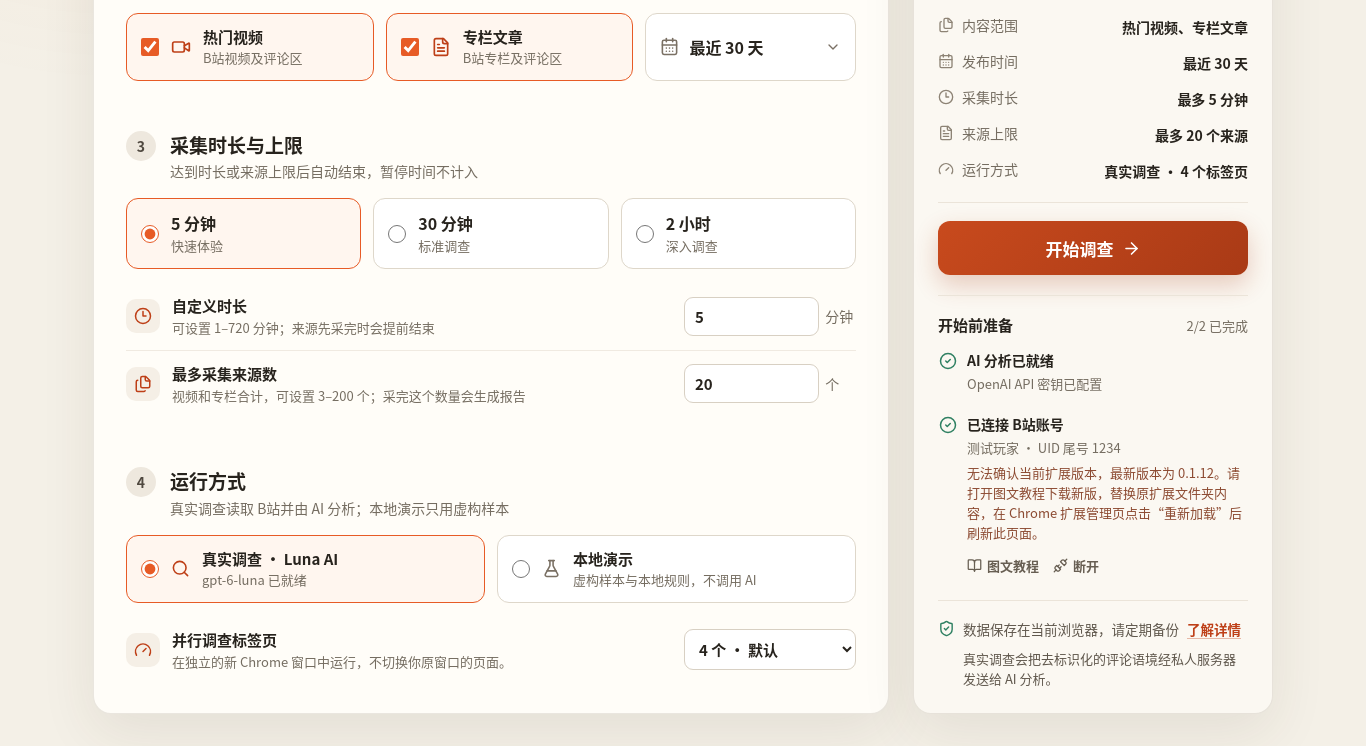
Test case: NewResearch › keeps the browser storage warning short and explains it on demand
(page scrolled)
Check: the text "数据保存在当前浏览器，请定期备份" is shown, box [963,619,1179,639]
Check: the text "清除网站数据会删除本地调查" is not shown
Click the button "了解详情" at point(1214, 629), box [1187,615,1241,643]
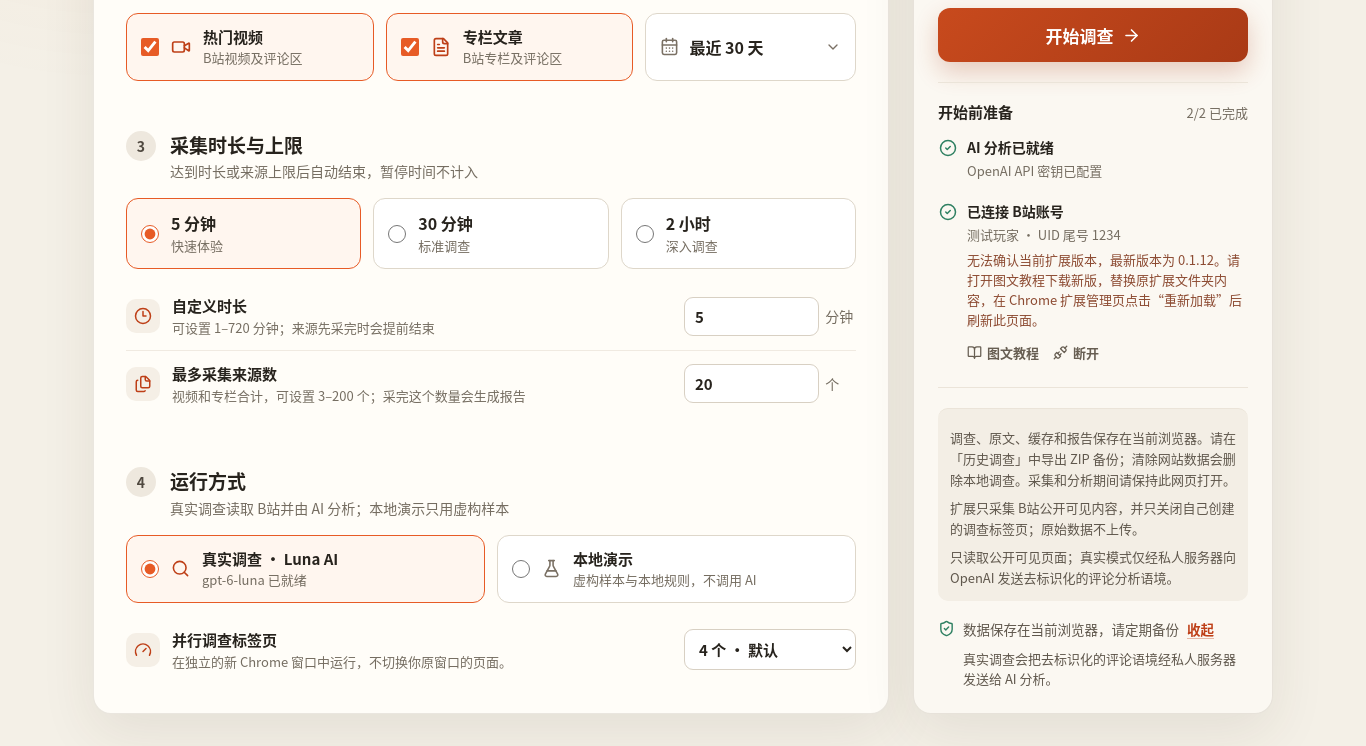
Check: the text "清除网站数据会删除本地调查" is shown, box [950,428,1236,490]
Check: the text "扩展只采集 B站公开可见内容，并只关闭自己创建的调查标签页；原始数据不上传。" is shown, box [950,497,1236,540]
Click the button "收起" at point(1200, 629), box [1187,615,1214,643]
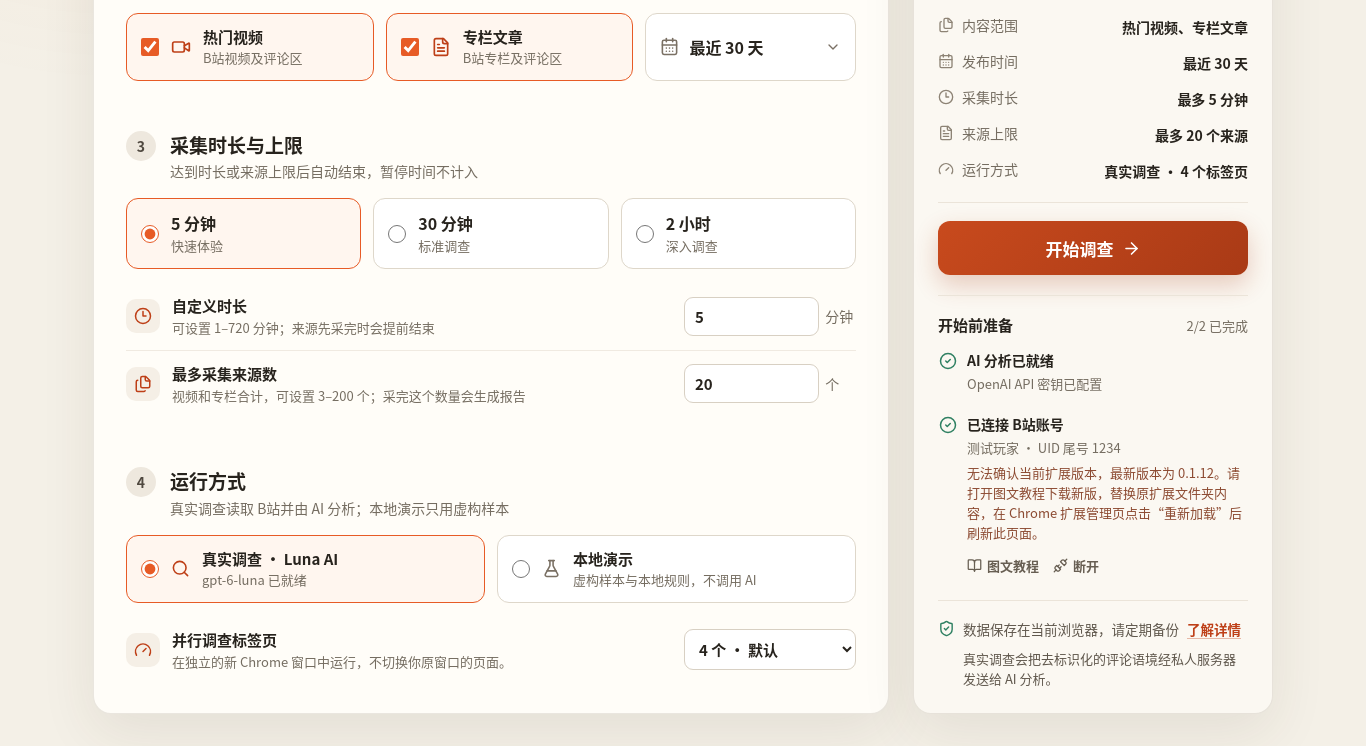
Check: the text "清除网站数据会删除本地调查" is gone
